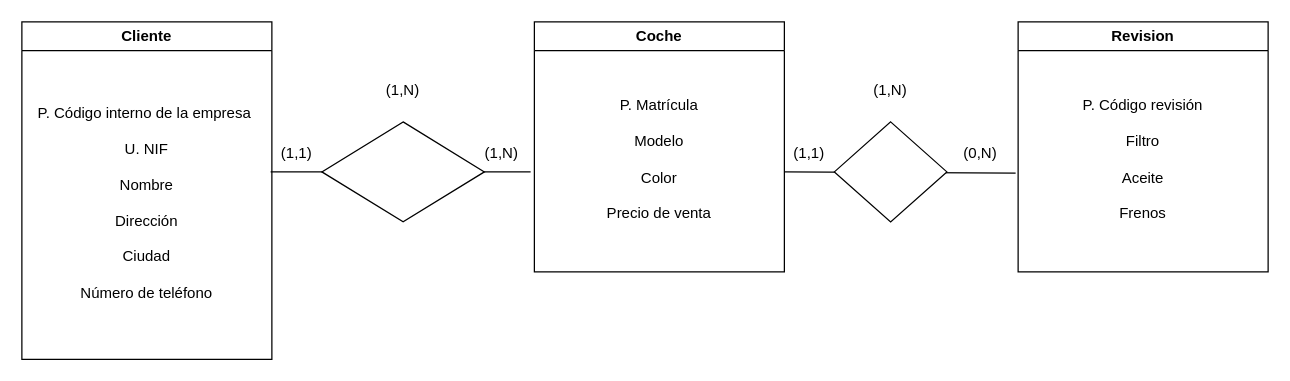
Some shapes in this 1290 by 381 pixel diagram are drawn without their labels. Here are the shapes that lost their labels. From the top down, the centre of each, then its label:
point (402, 171): Comptra
point (890, 171): Realizar
